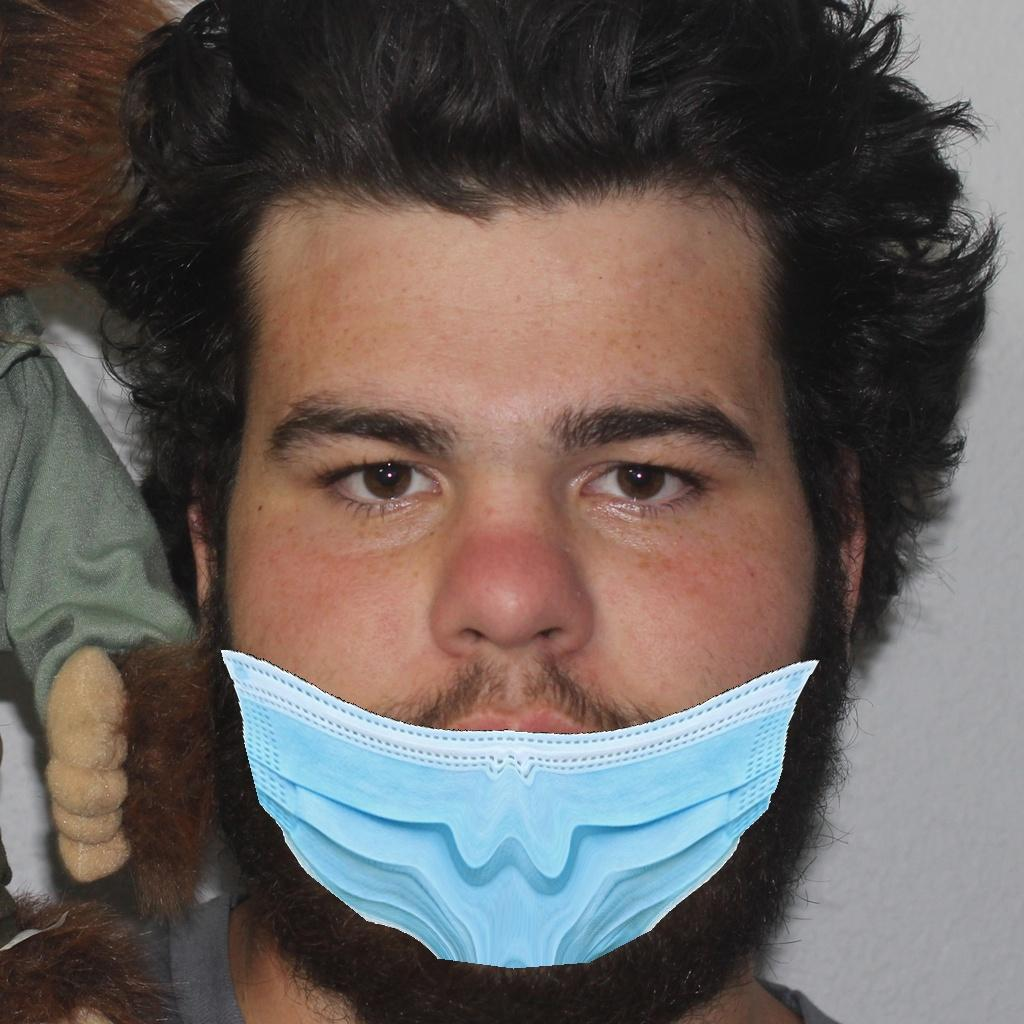Máscara Incorreta: (235, 239, 805, 953)
